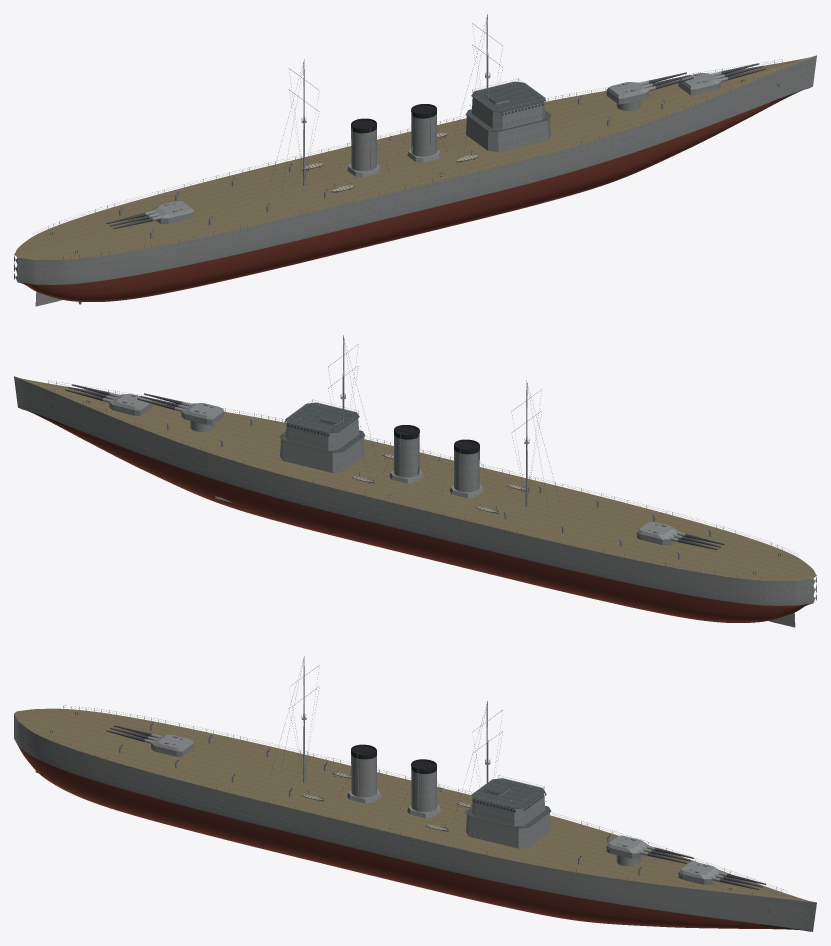
File: ocean_bb28.glb
3 views of the same model, one above another, from view 1: azimuth 30°, elevation 25°; view 2: azimuth 150°, elevation 25°; view 3: azimuth 330°, elevation 25° (orthographic).
Parts seen in each view (by area): view 1: Sovetskaya Respublika battleship; view 2: Sovetskaya Respublika battleship; view 3: Sovetskaya Respublika battleship.
Part boxes in pixels (left/top/right/bottom): Sovetskaya Respublika battleship: left=14, top=14, right=816, bottom=306; Sovetskaya Respublika battleship: left=14, top=335, right=816, bottom=627; Sovetskaya Respublika battleship: left=14, top=656, right=816, bottom=931.
Bounding box in the file's own units: 245 × 53.89 × 31.09.
Materials: 9 (8 with a texture image).
